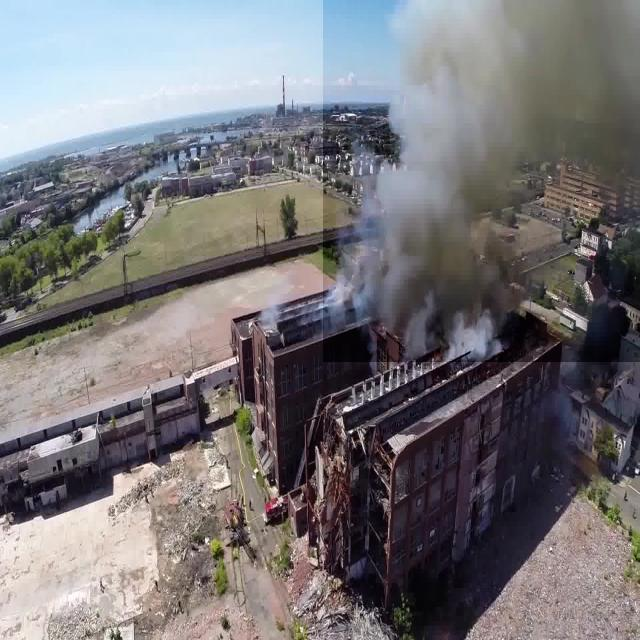Smoke: (323, 0, 640, 362)
